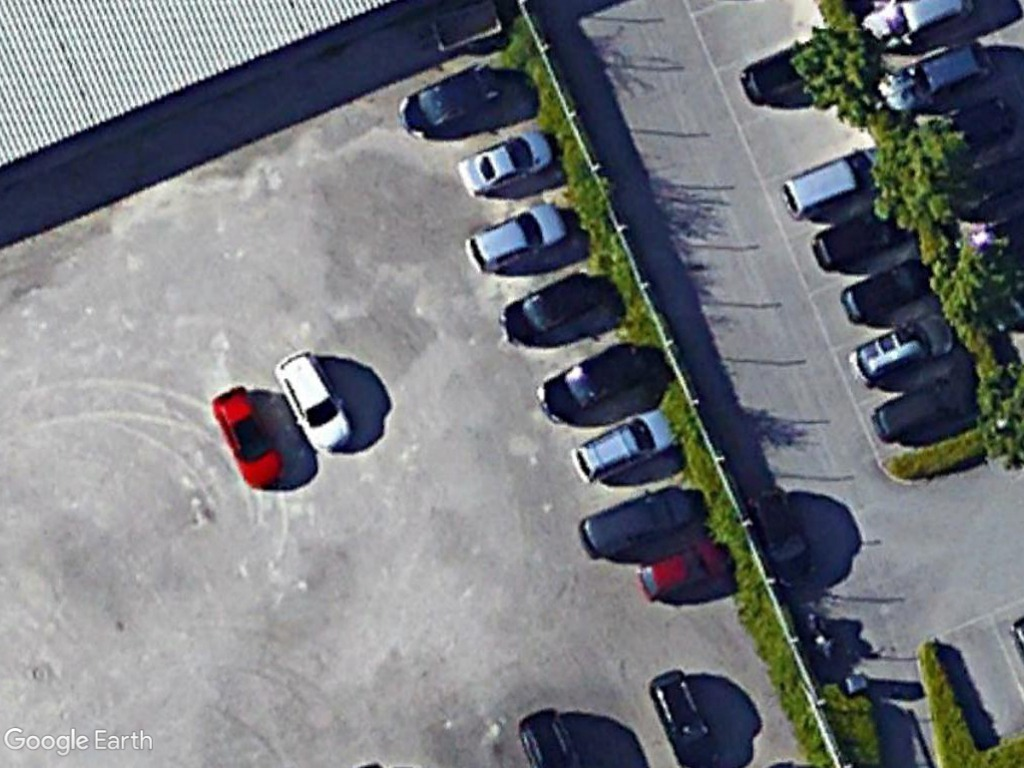car: (536, 337, 648, 427), (396, 56, 503, 143), (845, 312, 958, 391), (274, 348, 355, 457), (207, 387, 289, 492), (569, 403, 674, 485), (498, 267, 602, 349), (462, 200, 570, 278), (454, 126, 558, 204), (881, 39, 993, 111), (636, 534, 726, 607)
van: (576, 479, 693, 567)
